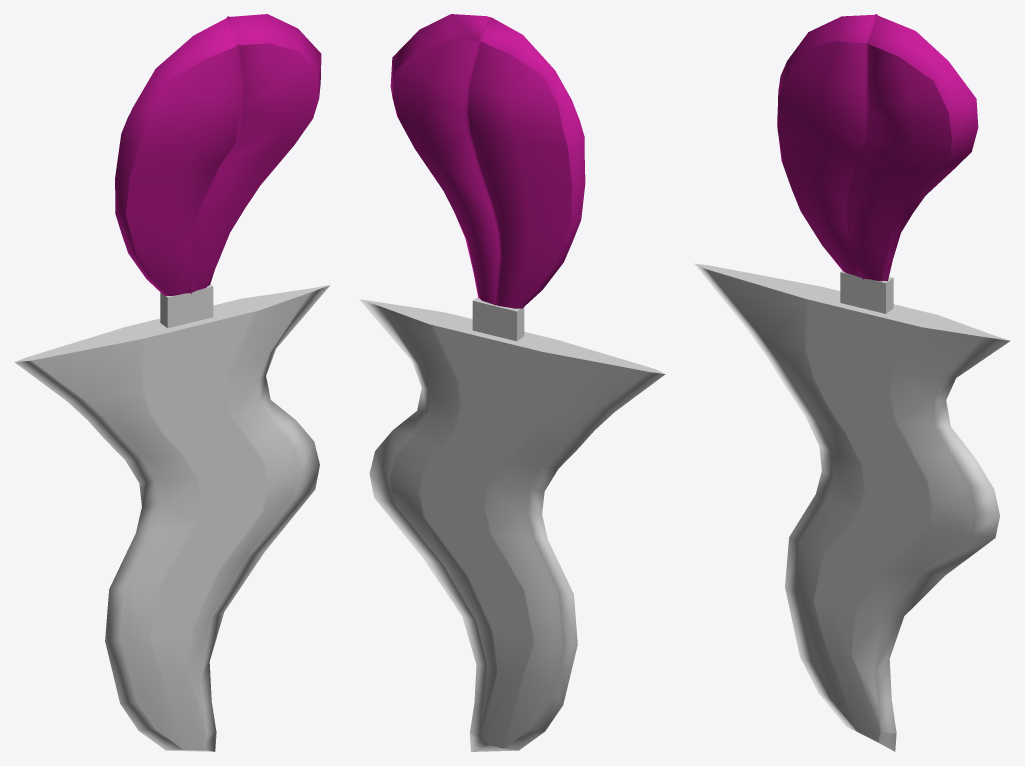
Rendered from Vegetales_Kris_model.FBX.
3 renders of one model, left to right at view 1: azimuth 30°, elevation 25°; view 2: azimuth 150°, elevation 25°; view 3: azimuth 330°, elevation 25°, orthographic. The views are drawn at different scales.
Parts seen in each view (by area): view 1: Plane001, Plane002; view 2: Plane001, Plane002; view 3: Plane001, Plane002.
Part boxes in pixels (box(x1,y1,x2,y2)): Plane001: box(14, 284, 330, 751); Plane002: box(115, 14, 321, 296); Plane001: box(359, 297, 665, 751); Plane002: box(390, 14, 585, 308); Plane001: box(694, 263, 1010, 751); Plane002: box(777, 14, 978, 281).
Bounding box in the file's own units: 61.44 × 139 × 12.25.
